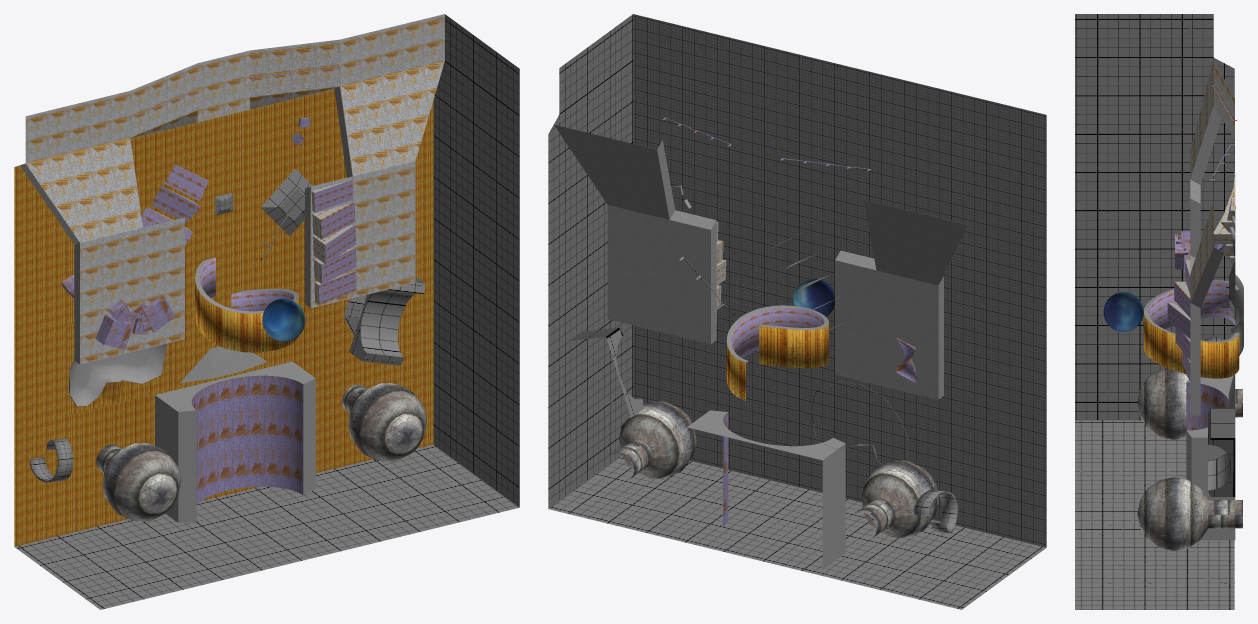
The model's file is lab.gltf.
The picture shows the model from 3 angles, left to right: view 1: azimuth 30°, elevation 25°; view 2: azimuth 150°, elevation 25°; view 3: azimuth 270°, elevation 25°; orthographic projection. The views are drawn at different scales.
Parts seen in each view (by area): view 1: structure, walls, halfpipe:0, globes, pool:0, fullpipe:0, rampset:1, halfpipe:1, climb, rampset:0, funbox:0, dupli_node_skysphere.2 (+1 smaller); view 2: walls, structure, globes, fullpipe:0, halfpipe:0, fullpipe:0.001, dupli_node_skysphere.2, halfpipe:1; view 3: walls, globes, structure, fullpipe:0, halfpipe:0, halfpipe:1, rampset:1, dupli_node_skysphere.2, rampset:0, pool:0, climb, funbox:0.
Part boxes in pixels (<box>): structure: <box>14,14,444,546</box>; walls: <box>14,14,519,609</box>; halfpipe:0: <box>155,346,315,522</box>; globes: <box>96,383,426,521</box>; pool:0: <box>66,323,171,415</box>; fullpipe:0: <box>195,257,298,352</box>; rampset:1: <box>311,180,356,304</box>; halfpipe:1: <box>343,277,425,365</box>; climb: <box>95,295,175,349</box>; rampset:0: <box>141,164,208,245</box>; funbox:0: <box>215,168,312,259</box>; dupli_node_skysphere.2: <box>262,298,305,341</box>; walls: <box>548,14,1046,609</box>; structure: <box>554,124,971,399</box>; globes: <box>613,401,939,538</box>; fullpipe:0: <box>726,305,828,400</box>; halfpipe:0: <box>687,410,845,569</box>; fullpipe:0.001: <box>914,490,957,533</box>; dupli_node_skysphere.2: <box>793,278,834,316</box>; halfpipe:1: <box>569,327,643,417</box>; walls: <box>1075,14,1234,609</box>; globes: <box>1137,368,1242,550</box>; structure: <box>1190,59,1234,415</box>; fullpipe:0: <box>1143,280,1239,378</box>; halfpipe:0: <box>1186,375,1235,540</box>; halfpipe:1: <box>1208,408,1235,496</box>; rampset:1: <box>1167,260,1190,381</box>; dupli_node_skysphere.2: <box>1103,292,1143,331</box>; rampset:0: <box>1213,172,1235,266</box>; pool:0: <box>1231,274,1243,355</box>; climb: <box>1175,231,1190,280</box>; funbox:0: <box>1219,232,1237,320</box>.
Size of the model in its own units: 512 by 512 by 193.
